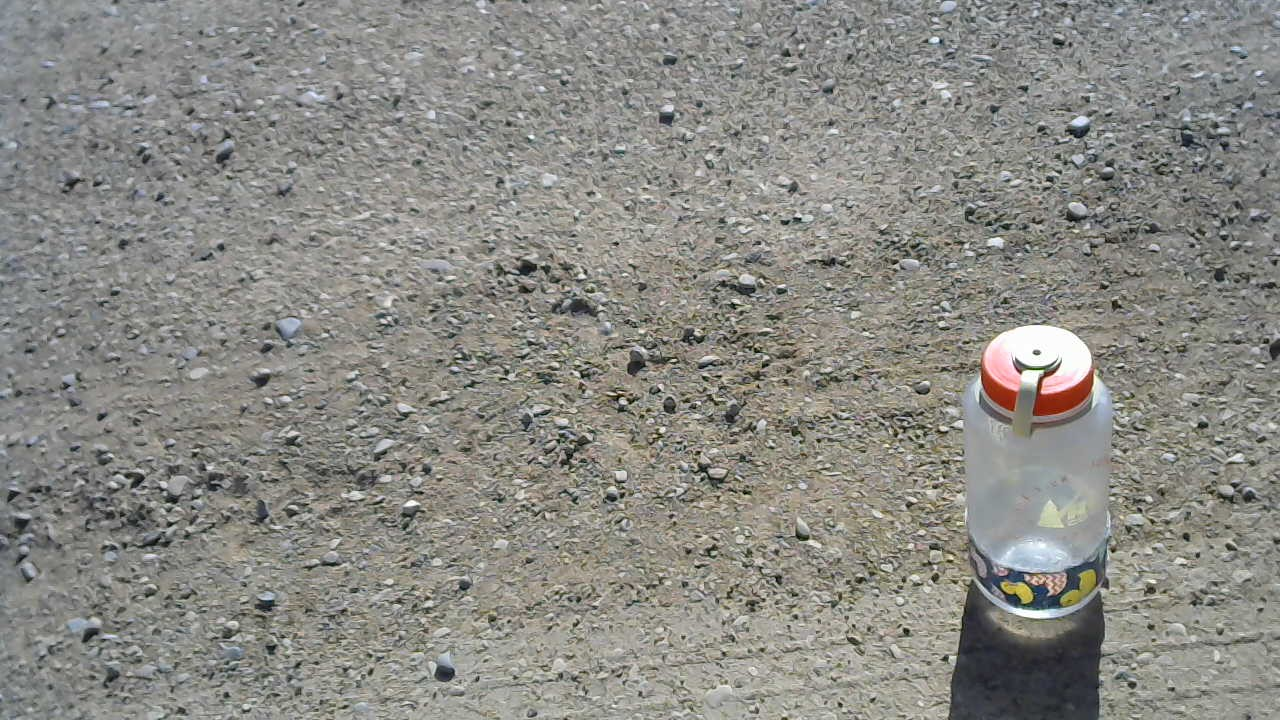bottle: (959, 322, 1117, 624)
